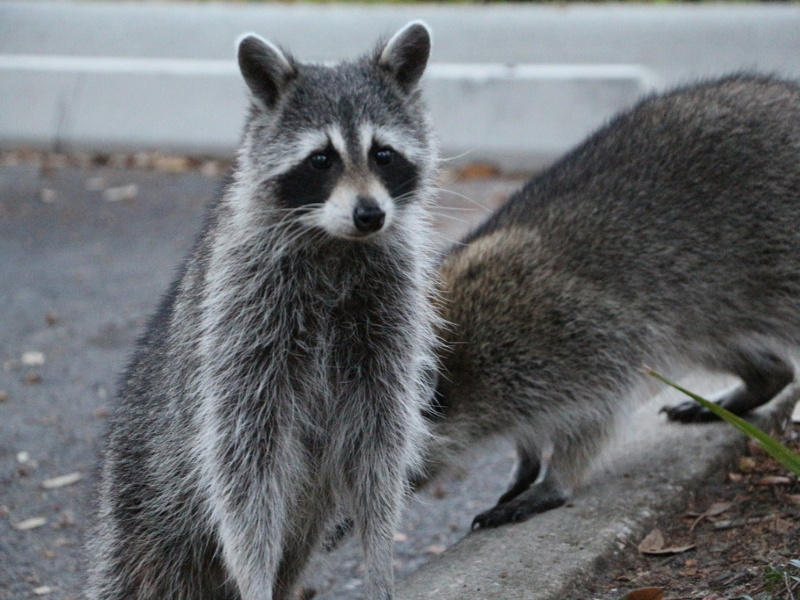raccoon: (93, 15, 435, 593), (412, 69, 798, 540)
